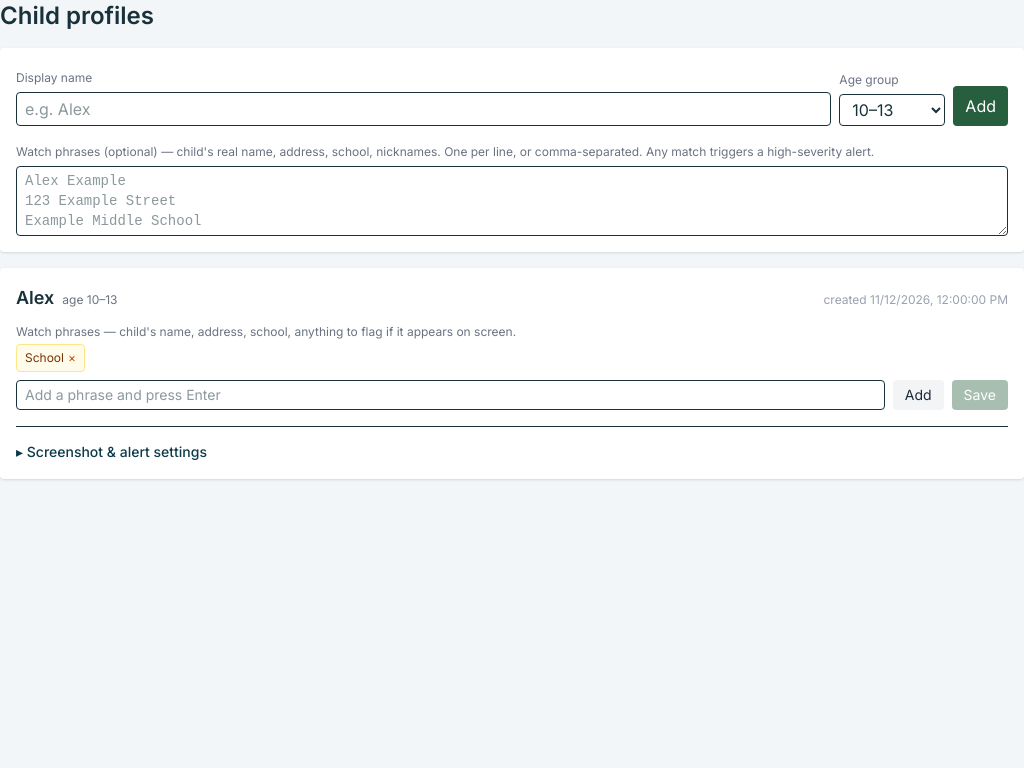
profile policy editing › shows a policy save failure and keeps the draft editable
Click the button "▸ Screenshot & alert settings": click(112, 452) [16,442,207,462]
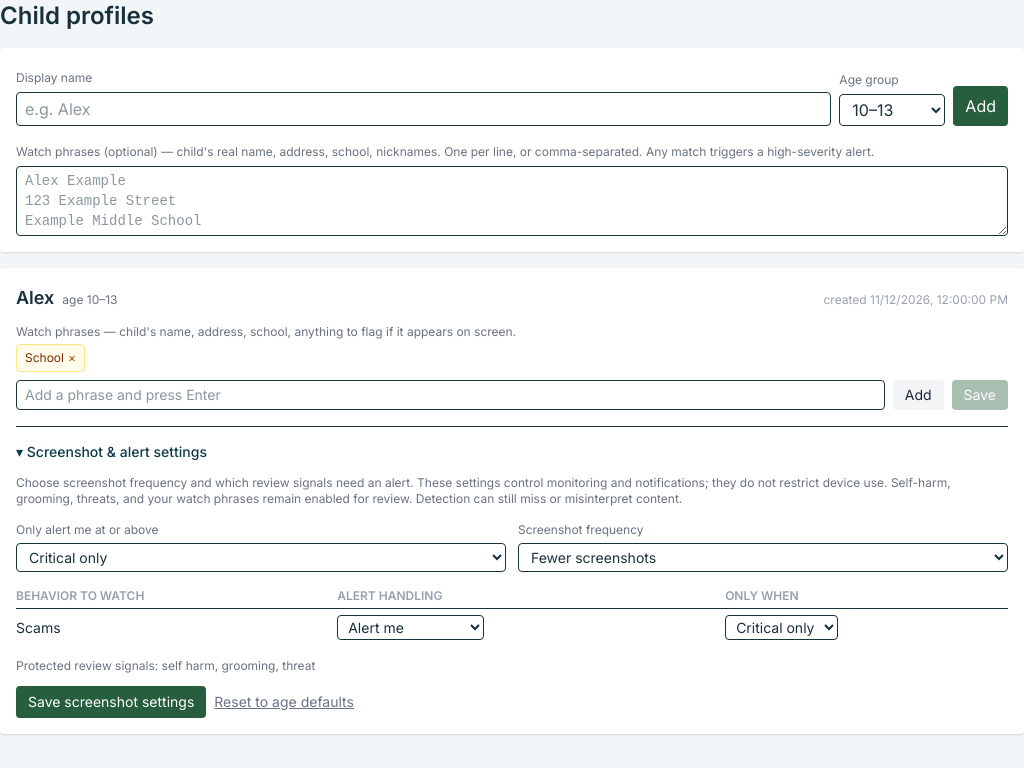
Select "High+" in the dropdown labelled "Only alert me at or above": (261, 558) [16,543,506,572]
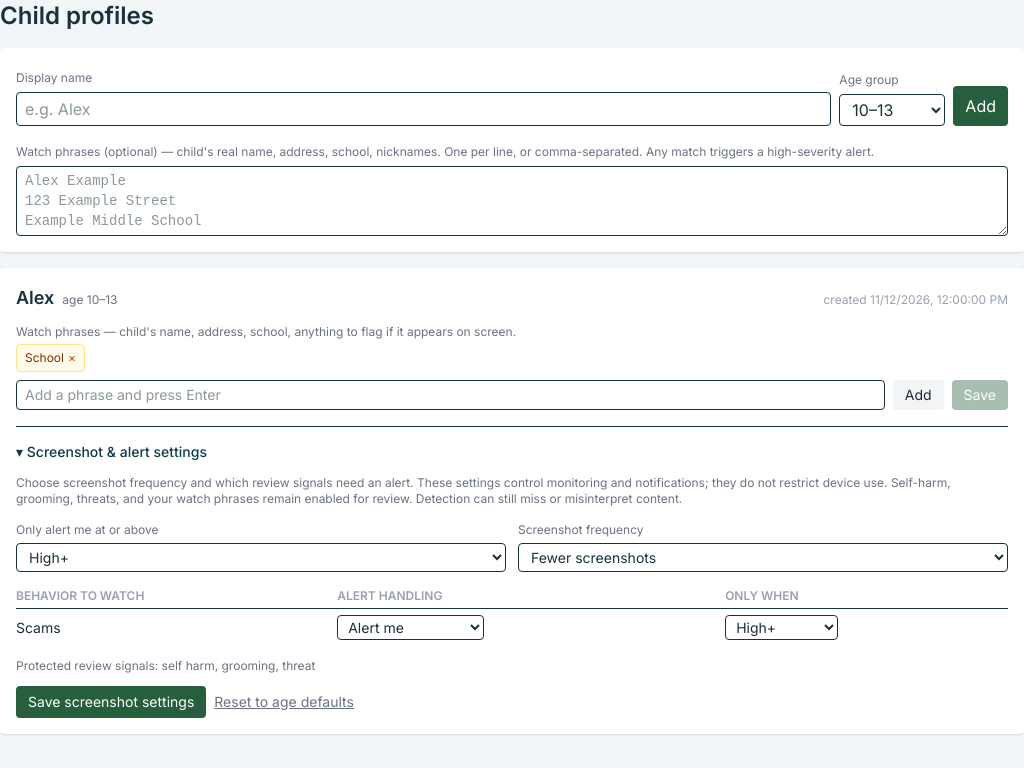
Click the button "Save screenshot settings": click(111, 702) [16,686,206,718]
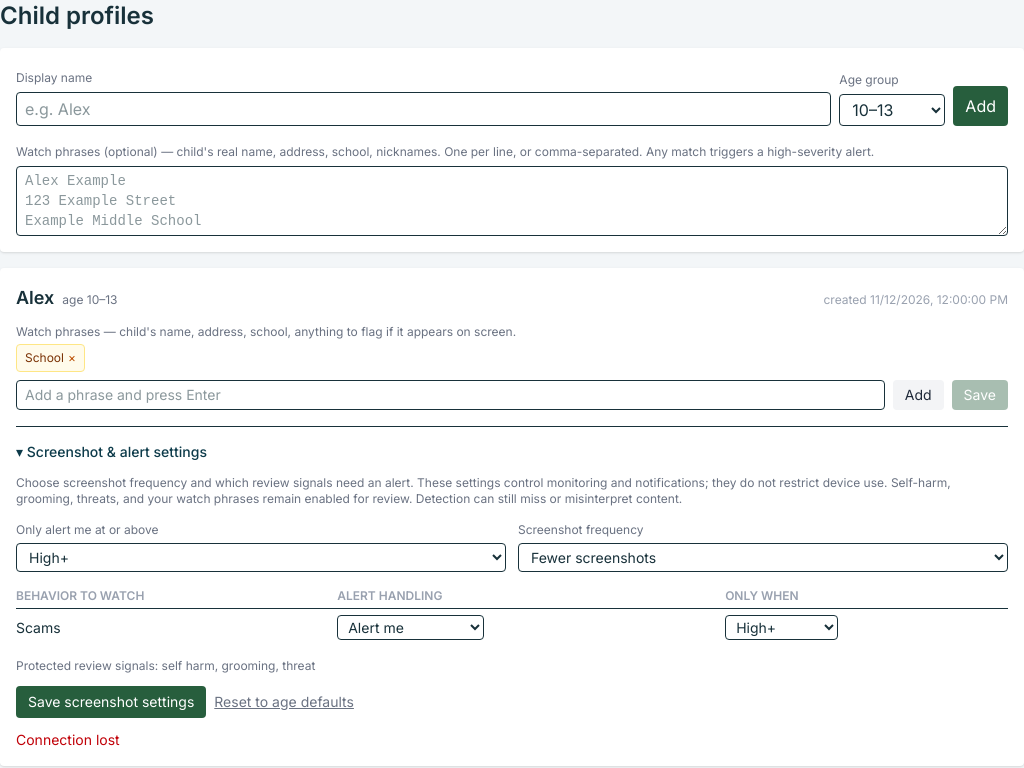
Result: the button "Save screenshot settings" is enabled at [16,686,206,718]
Result: the message reads "Connection lost" at [16,731,120,748]
